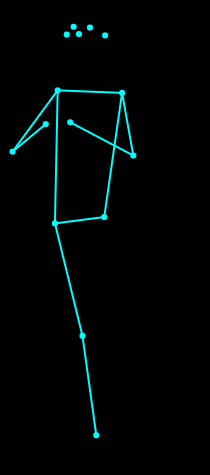tree: (5, 16, 143, 443)
